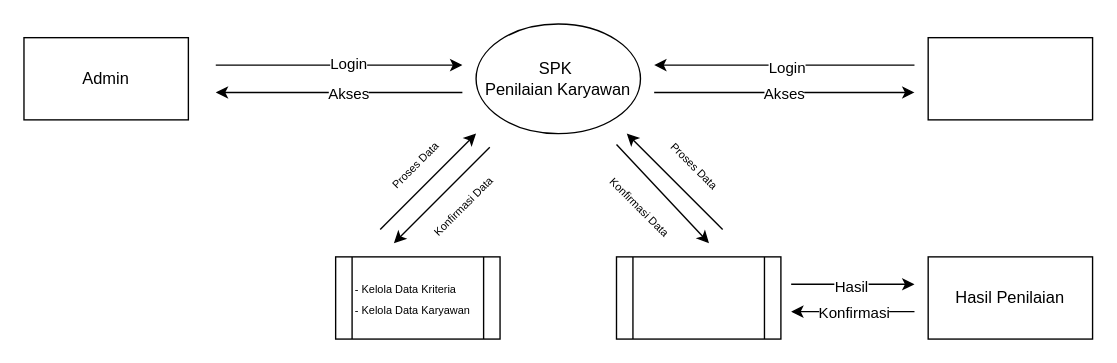
Some shapes in this 1117 by 363 pixel diagram are drawn without their labels. The shapes that lost their labels are listed below. From the top down, each one's box as (x1, y1, x2, y2) in pixels, then its label:
(927, 36, 1093, 120): HRD / Manager
(615, 256, 781, 339): - Data Penilaian
